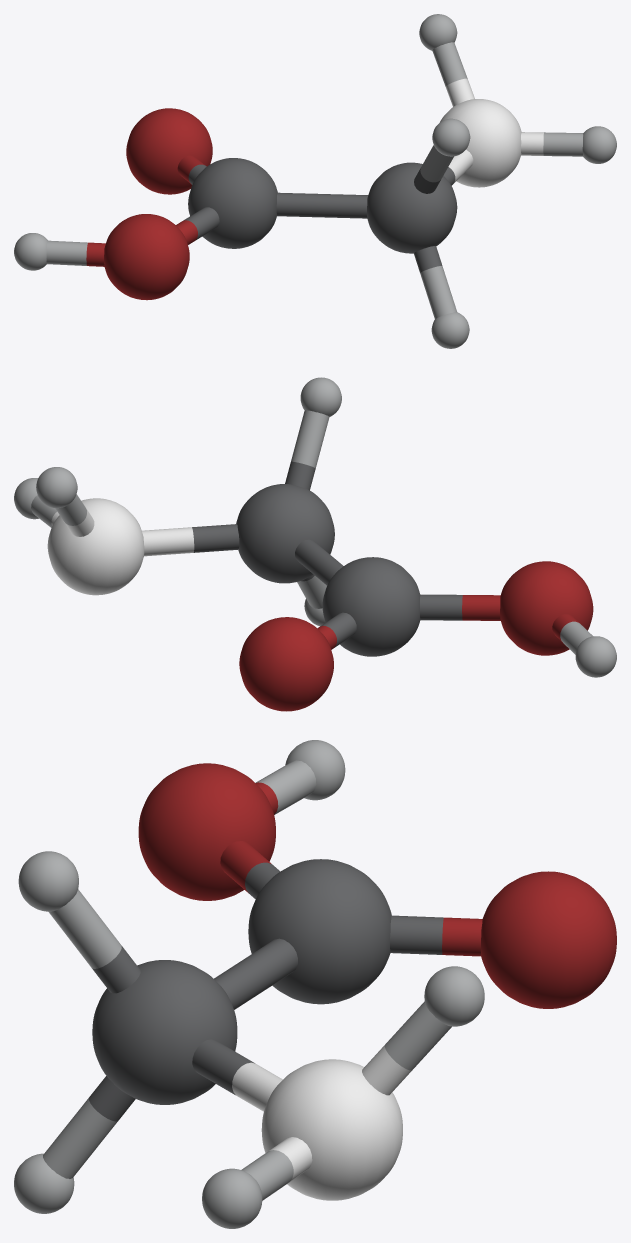
File: Glycin.gltf
3 views of the same model, one above another, from view 1: azimuth 30°, elevation 25°; view 2: azimuth 150°, elevation 25°; view 3: azimuth 270°, elevation 25° (orthographic). The views are drawn at different scales.
Visible parts, largest first — view 1: Carbon_Atom, Oxygen_Atom, Hydrogen_Atom, Hydrogen_sticks, Nitrogen_Atom, Carbon_sticks, Nitrogen_sticks, Oxygen_sticks; view 2: Carbon_Atom, Oxygen_Atom, Nitrogen_Atom, Hydrogen_Atom, Carbon_sticks, Hydrogen_sticks, Nitrogen_sticks, Oxygen_sticks; view 3: Carbon_Atom, Oxygen_Atom, Nitrogen_Atom, Hydrogen_Atom, Hydrogen_sticks, Carbon_sticks, Nitrogen_sticks, Oxygen_sticks.
Part boxes in pixels (<box>): Carbon_Atom: <box>188,158,457,253</box>; Oxygen_Atom: <box>104,108,212,300</box>; Hydrogen_Atom: <box>14,14,616,348</box>; Hydrogen_sticks: <box>46,42,583,318</box>; Nitrogen_Atom: <box>440,99,521,187</box>; Carbon_sticks: <box>183,164,455,272</box>; Nitrogen_sticks: <box>446,78,543,183</box>; Oxygen_sticks: <box>86,155,204,266</box>; Carbon_Atom: <box>236,484,420,656</box>; Oxygen_Atom: <box>239,561,593,711</box>; Nitrogen_Atom: <box>47,498,144,595</box>; Hydrogen_Atom: <box>14,377,616,677</box>; Carbon_sticks: <box>192,461,462,647</box>; Hydrogen_sticks: <box>31,410,592,654</box>; Nitrogen_sticks: <box>51,508,194,556</box>; Oxygen_sticks: <box>317,595,578,649</box>; Carbon_Atom: <box>92,859,391,1104</box>; Oxygen_Atom: <box>138,763,616,1008</box>; Nitrogen_Atom: <box>261,1059,402,1200</box>; Hydrogen_Atom: <box>14,740,484,1228</box>; Hydrogen_sticks: <box>43,760,451,1200</box>; Carbon_sticks: <box>89,862,443,1121</box>; Nitrogen_sticks: <box>232,1045,411,1181</box>; Oxygen_sticks: <box>220,782,482,956</box>.
Size of the model in its own units: 5.58 by 2.1 by 3.2.
